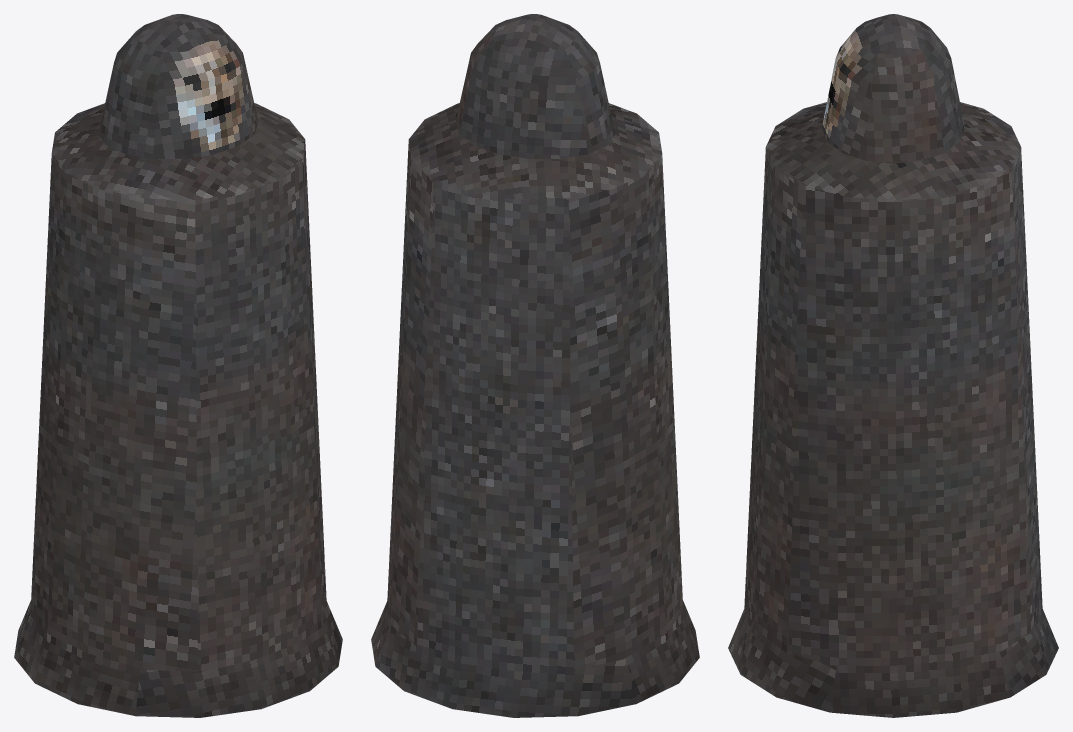
The model's file is Iron_Maiden_Closed.gltf.
The picture shows the model from 3 angles, left to right: view 1: azimuth 30°, elevation 25°; view 2: azimuth 150°, elevation 25°; view 3: azimuth 270°, elevation 25°; orthographic projection.
Parts seen in each view (by area): view 1: Iron_Maiden_Closed; view 2: Iron_Maiden_Closed; view 3: Iron_Maiden_Closed.
Part boxes in pixels (x1,y1,x2,y2): Iron_Maiden_Closed: [14, 14, 342, 717]; Iron_Maiden_Closed: [371, 14, 699, 717]; Iron_Maiden_Closed: [728, 14, 1058, 717].
Bounding box in the file's own units: 2.93 × 6.13 × 2.93.
Materials: 1 (1 with a texture image).
